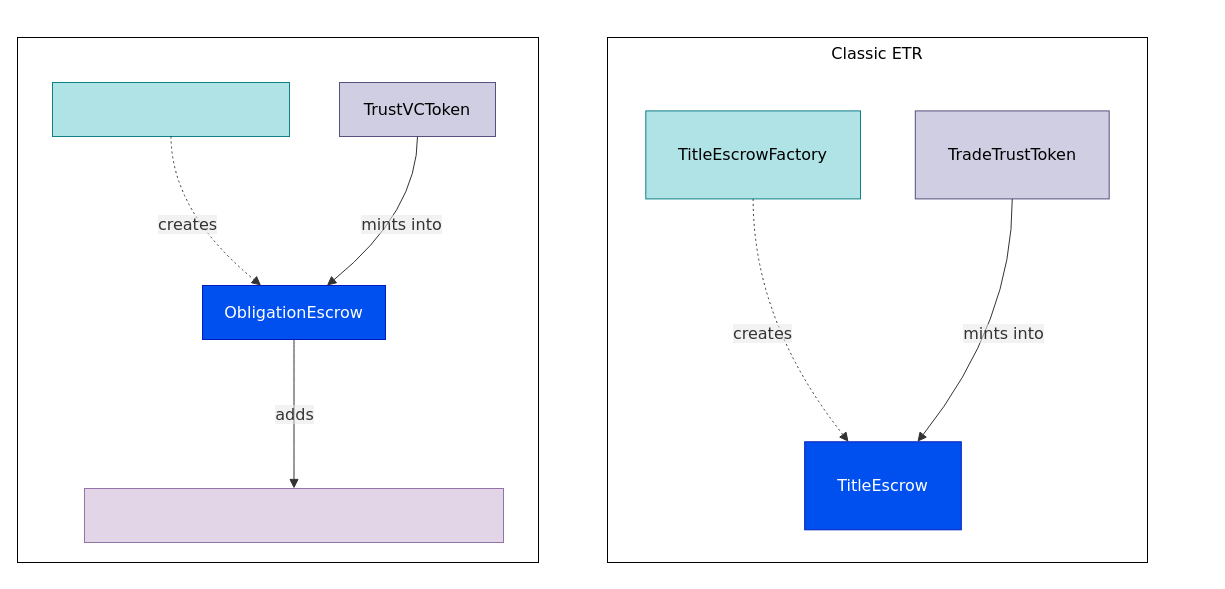
Image size: 1225x589. Some labels were removed from this diagram. The shapes that lost their labels are listed below. From the top down, each one's box as (x1, y1, x2, y2) in pixels, then its label:
(52, 82, 290, 136): ObligationEscrowFactory
(16, 36, 538, 562): Obligation Registry
(84, 488, 504, 542): status: Issued / Accepted / Rejected / Discharged
